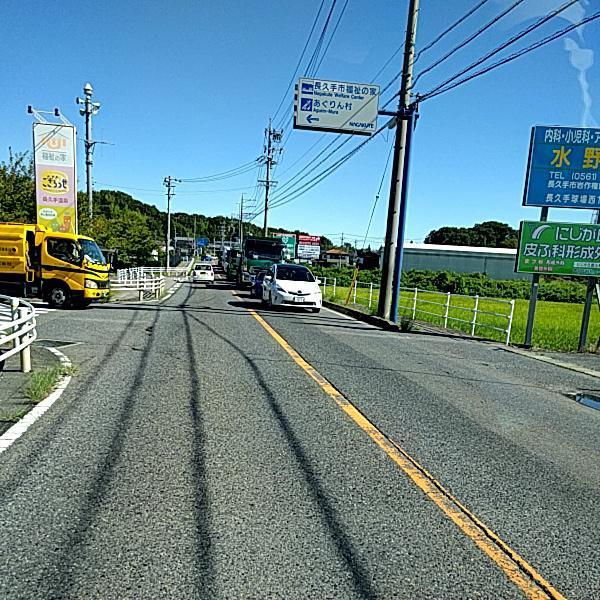D44: (251, 312, 566, 597)
